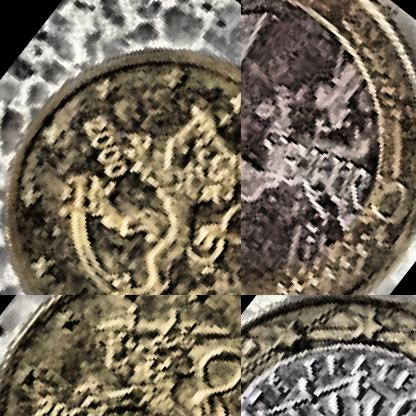coin: (0, 0, 240, 294), (241, 0, 415, 294), (0, 295, 240, 415), (241, 295, 415, 415)
